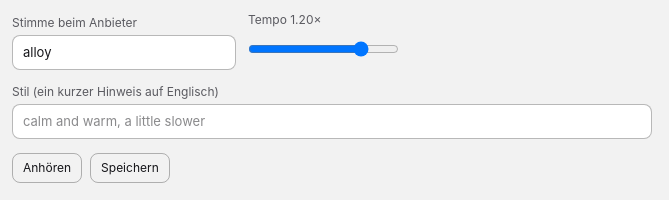
it: the spoken voice › plays a sample sentence through the provider with what is typed
Click the button "Anhören". click: [47, 168]
box: top-left (12, 153), bottom-right (82, 183)
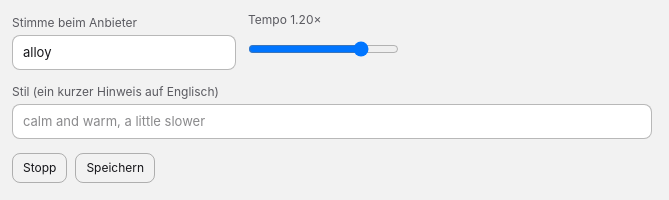
expect the button "Stopp" is shown: met, box top-left (12, 153), bottom-right (67, 183)
